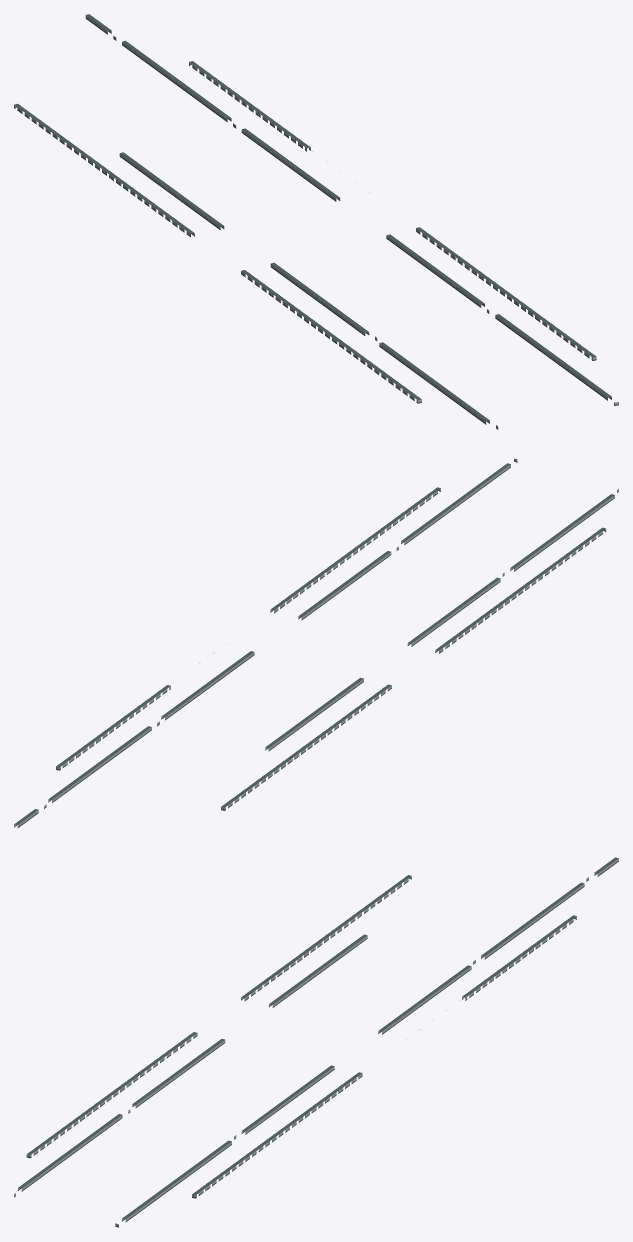
The model's file is AST-STF-G3-056.glb.
3 views of the same model, one above another, from view 1: azimuth 30°, elevation 25°; view 2: azimuth 150°, elevation 25°; view 3: azimuth 330°, elevation 25° (orthographic). The views are drawn at different scales.
Size of the model in its own units: 176 by 3.34 by 902.
Materials: 4 (4 with a texture image).
